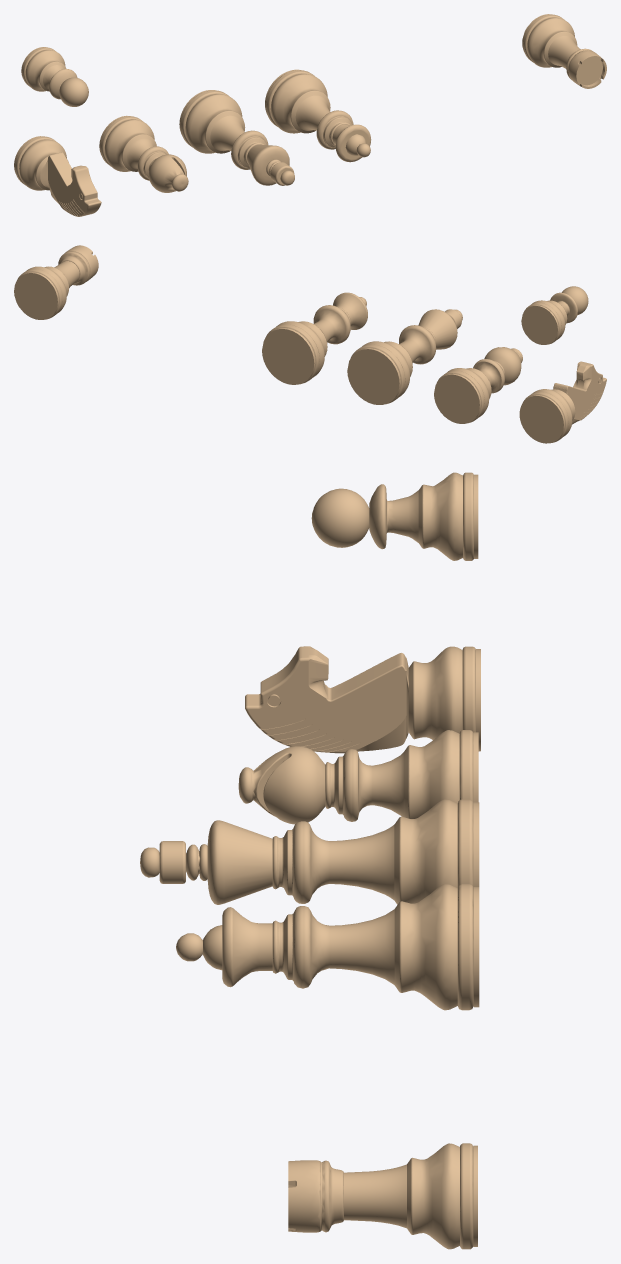
The model's file is chess-pieces.glb.
3 renders of one model, top to bottom at view 1: azimuth 30°, elevation 25°; view 2: azimuth 150°, elevation 25°; view 3: azimuth 270°, elevation 25°, orthographic. The views are drawn at different scales.
Parts seen in each view (by area): view 1: k, q, n, b, r, p; view 2: k, q, b, n, r, p; view 3: k, q, n, b, r, p.
Boxes of the visible parts, x1,y1,x2,y2 form: k: (179, 90, 294, 185); q: (265, 69, 371, 162); n: (14, 136, 101, 216); b: (99, 115, 188, 192); r: (522, 14, 606, 88); p: (21, 47, 88, 106); k: (347, 309, 462, 404); q: (262, 292, 367, 384); b: (434, 347, 522, 423); n: (519, 361, 606, 443); r: (14, 245, 98, 319); p: (521, 286, 588, 344); k: (140, 799, 479, 904); q: (176, 884, 479, 1010); n: (245, 646, 480, 753); b: (238, 730, 478, 824); r: (288, 1143, 477, 1249); p: (311, 472, 478, 560).
Size of the model in its own units: 22.21 by 5.42 by 5.93.
